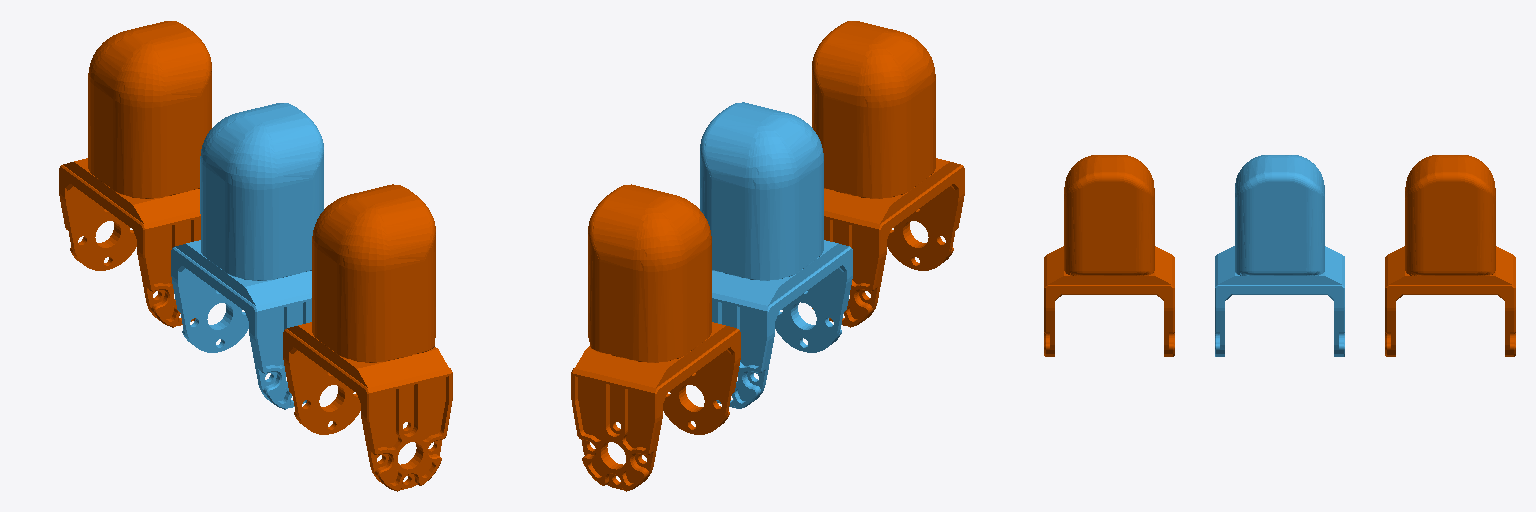
URDF robot description (leap_left):
<?xml version="1.0" encoding="utf-8"?>
<robot name="leap_left">
  <link name="base"/>
  <joint name="base_joint" type="fixed">
    <parent link="base"/>
    <child link="palm_lower_left"/>
    <origin xyz="0.015 0.055 0.17" rpy="0 -1.57079 0"/>
  </joint>

  <link name="palm_lower_left">
    <visual>
      <origin xyz="-0.0955 -0.1170 0.0207" rpy="1.57079 0 3.14159" />
      <geometry>
        <mesh filename="meshes/visual/palm_lower_left.obj"/>
      </geometry>
    </visual>
    <collision>
      <origin xyz="-0.095574224938392599027 -0.11704001150113751972 0.02077960705260517571" rpy="1.57079632679489678 1.1239611599647231752e-28 3.1415926535897908956"/>
      <geometry>
        <mesh filename="meshes/visual/palm_lower_left.obj"/>
      </geometry>
    </collision>
    <inertial>
      <origin xyz="0 0 0" rpy="0 0 0"/>
      <mass value="0.235"/>
      <inertia ixx="0.000351007" ixy="-0.000001393" ixz="-0.000000694" iyy="0.000523205" iyz="-0.000003085" izz="0.000256996"/>
    </inertial>
  </link>
  <link name="mcp_joint">
    <visual>
      <origin xyz="0.0084 0.0077 0.01465" rpy="0 0 0"/>
      <geometry>
        <mesh filename="meshes/visual/mcp_joint.obj"/>
      </geometry>
    </visual>
    <collision>      <!-- mcp_joint -->
      <origin xyz="0 0.018 0.0147" rpy="0 0 0"/>
      <geometry>
        <box size="0.02 0.006 0.034"/>
      </geometry>
    </collision>
    <collision>
      <origin xyz="-0.027 0.042 0.015" rpy="0 0 0"/>
      <geometry>
        <box size="0.028 0.04 0.02"/>
      </geometry>
    </collision>
    <collision>
      <origin xyz="-0.0262 0.02 0.0146" rpy="0 0 0"/>
      <geometry>
        <box size="0.034 0.006 0.02"/>
      </geometry>
    </collision>
    <collision>
      <origin xyz="-0.0295 0.035 0.029" rpy="0 0 0"/>
      <geometry>
        <box size="0.02 0.024 0.008"/>
      </geometry>
    </collision>
    <collision>
      <origin xyz="0 0.005 0.03" rpy="0 0 0"/>
      <geometry>
        <box size="0.014 0.02 0.004"/>
      </geometry>
    </collision>
    <collision>
      <origin xyz="0 0.005 -0.001" rpy="0 0 0"/>
      <geometry>
        <box size="0.014 0.02 0.004"/>
      </geometry>
    </collision>
    <inertial>
      <origin xyz="0 0 0" rpy="0 0 0"/>
      <mass value="0.044"/>
      <inertia ixx="0.000011499" ixy="0.000003049" ixz="0.000000121" iyy="0.000007796" iyz="0.000000112" izz="0.000014759"/>
    </inertial>
  </link>
  <link name="pip">
    <visual>
      <origin xyz="0.0096 0.0002 0.0007" rpy="-1.57079 -1.57079 0"/>
      <geometry>
        <mesh filename="meshes/visual/pip.obj"/>
      </geometry>
    </visual>
    <collision>     <!-- pip -->
      <origin xyz="0.0075 -0.0002 -0.011" rpy="0 0 0"/>
      <geometry>
        <box size="0.034 0.026 0.022"/>
      </geometry>
    </collision>
    <inertial>
      <origin xyz="0 0 0" rpy="0 0 0"/>
      <mass value="0.032"/>
      <inertia ixx="0.000004798" ixy="0.000000012" ixz="0.000000004" iyy="0.000002862" iyz="0.000000011" izz="0.000004234"/>
    </inertial>
  </link>
  <link name="dip">
    <visual>
      <origin xyz="0.0211 -0.0084 0.0097" rpy="-3.1415926 0 0"/>
      <geometry>
        <mesh filename="meshes/visual/dip.obj"/>
      </geometry>
    </visual>
    <collision>     <!-- dip -->
      <origin xyz="0 -0.02 0.015" rpy="0 0 0"/>
      <geometry>
        <box size="0.016 0.006 0.026"/>
      </geometry>
    </collision>
    <collision>
      <origin xyz="0 -0.016 0.015" rpy="0 0 0"/>
      <geometry>
        <box size="0.02 0.004 0.034"/>
      </geometry>
    </collision>
    <collision>
      <origin xyz="0 -0.0045 0.03" rpy="0 0 0"/>
      <geometry>
        <box size="0.014 0.02 0.004"/>
      </geometry>
    </collision>
    <collision>
      <origin xyz="0 -0.0045 0" rpy="0 0 0"/>
      <geometry>
        <box size="0.014 0.02 0.004"/>
      </geometry>
    </collision>
    <collision>
      <origin xyz="0.0075 -0.035 0.015" rpy="0 0 0"/>
      <geometry>
        <box size="0.034 0.022 0.026"/>
      </geometry>
    </collision>
    <inertial>
      <origin xyz="0 0 0" rpy="0 0 0"/>
      <mass value="0.037"/>
      <inertia ixx="0.000005542" ixy="-0.000000607" ixz="-0.000000017" iyy="0.000005727" iyz="-0.000000023" izz="0.000006682"/>
    </inertial>
  </link>
  <link name="fingertip">
    <visual>
      <origin xyz="0.0132 -0.0061 0.0144" rpy="3.1415926 0 0"/>
      <geometry>
        <mesh filename="meshes/visual/fingertip.obj"/>
      </geometry>
    </visual>
    <collision>     <!-- fingertip -->
      <origin xyz="0 -0.017 0.015" rpy="0 0 0"/>
      <geometry>
        <box size="0.02 0.006 0.03"/>
      </geometry>
    </collision>
    <collision>
      <origin xyz="0 -0.006 0.03" rpy="0 0 0"/>
      <geometry>
        <box size="0.014 0.022 0.004"/>
      </geometry>
    </collision>
    <collision>
      <origin xyz="0 -0.006 -0.001" rpy="0 0 0"/>
      <geometry>
        <box size="0.014 0.022 0.004"/>
      </geometry>
    </collision>
    <collision>
      <origin xyz="0 0 0" rpy="0 0 0"/>
      <geometry>
        <mesh filename="meshes/collision/white_tip.obj"/>
      </geometry>
    </collision>
    <inertial>
      <origin xyz="0 0 0" rpy="0 0 0"/>
      <mass value="0.016"/>
      <inertia ixx="0.000003368" ixy="0.000000115" ixz="0" iyy="0.000001556" iyz="0" izz="0.000002863"/>
    </inertial>
  </link>

  <joint name="0" type="revolute">
    <origin xyz="-0.0122 0.03810 0.01450" rpy="-1.57079 0 1.57079"/>
    <parent link="mcp_joint"/>
    <child link="pip"/>
    <axis xyz="0 0 -1"/>
    <limit effort="0.95" velocity="8.48" lower="-1.047" upper="1.047"/>
    <joint_properties friction="0.0"/>
  </joint>
  <joint name="1" type="revolute">
    <origin xyz="-0.0825 -0.0857 0.0078" rpy="1.57079 1.57079 0"/>
    <parent link="palm_lower_left"/>
    <child link="mcp_joint"/>
    <axis xyz="0 0 -1"/>
    <limit effort="0.95" velocity="8.48" lower="-0.314" upper="2.23"/>
    <joint_properties friction="0.0"/>
  </joint>
  <joint name="2" type="revolute">
    <origin xyz="0.015 0.0143 -0.013" rpy="1.57079 -1.57079 0"/>
    <parent link="pip"/>
    <child link="dip"/>
    <axis xyz="0 0 -1"/>
    <limit effort="0.95" velocity="8.48" lower="-0.506" upper="1.885"/>
    <joint_properties friction="0.0"/>
  </joint>
  <joint name="3" type="revolute">
    <origin xyz="0 -0.0361 0.0002" rpy="0 0 0"/>
    <parent link="dip"/>
    <child link="fingertip"/>
    <axis xyz="0 0 -1"/>
    <limit effort="0.95" velocity="8.48" lower="-0.366" upper="2.042"/>
    <joint_properties friction="0.0"/>
  </joint>
  <link name="mcp_joint_2">
    <visual>
      <origin xyz="0.0084 0.0077 0.01465" rpy="0 0 0"/>
      <geometry>
        <mesh filename="meshes/visual/mcp_joint.obj"/>
      </geometry>
    </visual>
    <collision>      <!-- mcp_joint -->
      <origin xyz="0 0.018 0.0147" rpy="0 0 0"/>
      <geometry>
        <box size="0.02 0.006 0.034"/>
      </geometry>
    </collision>
    <collision>
      <origin xyz="-0.027 0.042 0.015" rpy="0 0 0"/>
      <geometry>
        <box size="0.028 0.04 0.02"/>
      </geometry>
    </collision>
    <collision>
      <origin xyz="-0.0262 0.02 0.0146" rpy="0 0 0"/>
      <geometry>
        <box size="0.034 0.006 0.02"/>
      </geometry>
    </collision>
    <collision>
      <origin xyz="-0.0295 0.035 0.029" rpy="0 0 0"/>
      <geometry>
        <box size="0.02 0.024 0.008"/>
      </geometry>
    </collision>
    <collision>
      <origin xyz="0 0.005 0.03" rpy="0 0 0"/>
      <geometry>
        <box size="0.014 0.02 0.004"/>
      </geometry>
    </collision>
    <collision>
      <origin xyz="0 0.005 -0.001" rpy="0 0 0"/>
      <geometry>
        <box size="0.014 0.02 0.004"/>
      </geometry>
    </collision>
    <inertial>
      <origin xyz="0 0 0" rpy="0 0 0"/>
      <mass value="0.044"/>
      <inertia ixx="0.000011499" ixy="0.000003049" ixz="0.000000121" iyy="0.000007796" iyz="0.000000112" izz="0.000014759"/>
    </inertial>
  </link>
  <link name="pip_2">
    <visual>
      <origin xyz="0.0096 0.0003 0.0007" rpy="-1.57079 -1.57079 0"/>
      <geometry>
        <mesh filename="meshes/visual/pip.obj"/>
      </geometry>
    </visual>
    <collision>     <!-- pip -->
      <origin xyz="0.0075 -0.0002 -0.011" rpy="0 0 0"/>
      <geometry>
        <box size="0.034 0.026 0.022"/>
      </geometry>
    </collision>
    <inertial>
      <origin xyz="0 0 0" rpy="0 0 0"/>
      <mass value="0.032"/>
      <inertia ixx="0.000004798" ixy="0.000000012" ixz="0.000000004" iyy="0.000002862" iyz="0.000000011" izz="0.000004234"/>
    </inertial>
  </link>
  <link name="dip_2">
    <visual>
      <origin xyz="0.0211 -0.0084 0.0097" rpy="-3.14159 0 0"/>
      <geometry>
        <mesh filename="meshes/visual/dip.obj"/>
      </geometry>
    </visual>
    <collision>     <!-- dip -->
      <origin xyz="0 -0.02 0.015" rpy="0 0 0"/>
      <geometry>
        <box size="0.016 0.006 0.026"/>
      </geometry>
    </collision>
    <collision>
      <origin xyz="0 -0.016 0.015" rpy="0 0 0"/>
      <geometry>
        <box size="0.02 0.004 0.034"/>
      </geometry>
    </collision>
    <collision>
      <origin xyz="0 -0.0045 0.03" rpy="0 0 0"/>
      <geometry>
        <box size="0.014 0.02 0.004"/>
      </geometry>
    </collision>
    <collision>
      <origin xyz="0 -0.0045 0" rpy="0 0 0"/>
      <geometry>
        <box size="0.014 0.02 0.004"/>
      </geometry>
    </collision>
    <collision>
      <origin xyz="0.0075 -0.035 0.015" rpy="0 0 0"/>
      <geometry>
        <box size="0.034 0.022 0.026"/>
      </geometry>
    </collision>
    <inertial>
      <origin xyz="0 0 0" rpy="0 0 0"/>
      <mass value="0.037"/>
      <inertia ixx="0.000005542" ixy="-0.000000607" ixz="-0.000000017" iyy="0.000005727" iyz="-0.000000023" izz="0.000006682"/>
    </inertial>
  </link>
  <link name="fingertip_2">
    <visual>
      <origin xyz="0.0132 -0.0061 0.01450" rpy="3.14159 0 0"/>
      <geometry>
        <mesh filename="meshes/visual/fingertip.obj"/>
      </geometry>
    </visual>
    <collision>     <!-- fingertip -->
      <origin xyz="0 -0.017 0.015" rpy="0 0 0"/>
      <geometry>
        <box size="0.02 0.006 0.03"/>
      </geometry>
    </collision>
    <collision>
      <origin xyz="0 -0.006 0.03" rpy="0 0 0"/>
      <geometry>
        <box size="0.014 0.022 0.004"/>
      </geometry>
    </collision>
    <collision>
      <origin xyz="0 -0.006 -0.001" rpy="0 0 0"/>
      <geometry>
        <box size="0.014 0.022 0.004"/>
      </geometry>
    </collision>
    <collision>
      <origin xyz="0 0 0" rpy="0 0 0"/>
      <geometry>
        <mesh filename="meshes/collision/white_tip.obj"/>
      </geometry>
    </collision>
    <inertial>
      <origin xyz="0 0 0" rpy="0 0 0"/>
      <mass value="0.016"/>
      <inertia ixx="0.000003368" ixy="0.000000115" ixz="0" iyy="0.000001556" iyz="0" izz="0.000002863"/>
    </inertial>
  </link>
  <joint name="4" type="revolute">
    <origin xyz="-0.0122 0.0381 0.0145" rpy="-1.57079 0 1.57079"/>
    <parent link="mcp_joint_2"/>
    <child link="pip_2"/>
    <axis xyz="0 0 -1"/>
    <limit effort="0.95" velocity="8.48" lower="-1.047" upper="1.047"/>
    <joint_properties friction="0.0"/>
  </joint>
  <joint name="5" type="revolute">
    <origin xyz="-0.0825 -0.0403 0.0078" rpy="1.57079 1.57079 0"/>
    <parent link="palm_lower_left"/>
    <child link="mcp_joint_2"/>
    <axis xyz="0 0 -1"/>
    <limit effort="0.95" velocity="8.48" lower="-0.314" upper="2.23"/>
    <joint_properties friction="0.0"/>
  </joint>
  <joint name="6" type="revolute">
    <origin xyz="0.015 0.0143 -0.013" rpy="1.57079 -1.57079 0"/>
    <parent link="pip_2"/>
    <child link="dip_2"/>
    <axis xyz="0 0 -1"/>
    <limit effort="0.95" velocity="8.48" lower="-0.506" upper="1.885"/>
    <joint_properties friction="0.0"/>
  </joint>
  <joint name="7" type="revolute">
    <origin xyz="0 -0.0361 0.0002" rpy="0 0 0"/>
    <parent link="dip_2"/>
    <child link="fingertip_2"/>
    <axis xyz="0 0 -1"/>
    <limit effort="0.95" velocity="8.48" lower="-0.366" upper="2.042"/>
    <joint_properties friction="0.0"/>
  </joint>
  <link name="mcp_joint_3">
    <visual>
      <origin xyz="0.0084 0.0077 0.01465" rpy="0 0 0"/>
      <geometry>
        <mesh filename="meshes/visual/mcp_joint.obj"/>
      </geometry>
    </visual>
    <collision>      <!-- mcp_joint -->
      <origin xyz="0 0.018 0.0147" rpy="0 0 0"/>
      <geometry>
        <box size="0.02 0.006 0.034"/>
      </geometry>
    </collision>
    <collision>
      <origin xyz="-0.027 0.042 0.015" rpy="0 0 0"/>
      <geometry>
        <box size="0.028 0.04 0.02"/>
      </geometry>
    </collision>
    <collision>
      <origin xyz="-0.0262 0.02 0.0146" rpy="0 0 0"/>
      <geometry>
        <box size="0.034 0.006 0.02"/>
      </geometry>
    </collision>
    <collision>
      <origin xyz="-0.0295 0.035 0.029" rpy="0 0 0"/>
      <geometry>
        <box size="0.02 0.024 0.008"/>
      </geometry>
    </collision>
    <collision>
      <origin xyz="0 0.005 0.03" rpy="0 0 0"/>
      <geometry>
        <box size="0.014 0.02 0.004"/>
      </geometry>
    </collision>
    <collision>
      <origin xyz="0 0.005 -0.001" rpy="0 0 0"/>
      <geometry>
        <box size="0.014 0.02 0.004"/>
      </geometry>
    </collision>
    <inertial>
      <origin xyz="0 0 0" rpy="0 0 0"/>
      <mass value="0.044"/>
      <inertia ixx="0.000011499" ixy="0.000003049" ixz="0.000000121" iyy="0.000007796" iyz="0.000000112" izz="0.000014759"/>
    </inertial>
  </link>
  <link name="pip_3">
    <visual>
      <origin xyz="0.0096 0.0003 0.0007" rpy="-1.57079 -1.57079 0"/>
      <geometry>
        <mesh filename="meshes/visual/pip.obj"/>
      </geometry>
    </visual>
    <collision>     <!-- pip -->
      <origin xyz="0.0075 -0.0002 -0.011" rpy="0 0 0"/>
      <geometry>
        <box size="0.034 0.026 0.022"/>
      </geometry>
    </collision>
    <inertial>
      <origin xyz="0 0 0" rpy="0 0 0"/>
      <mass value="0.032"/>
      <inertia ixx="0.000004798" ixy="0.000000012" ixz="0.000000004" iyy="0.000002862" iyz="0.000000011" izz="0.000004234"/>
    </inertial>
  </link>
  <link name="dip_3">
    <visual>
      <origin xyz="0.0211 -0.0084 0.0097" rpy="-3.14159 0 0"/>
      <geometry>
        <mesh filename="meshes/visual/dip.obj"/>
      </geometry>
    </visual>
    <collision>     <!-- dip -->
      <origin xyz="0 -0.02 0.015" rpy="0 0 0"/>
      <geometry>
        <box size="0.016 0.006 0.026"/>
      </geometry>
    </collision>
    <collision>
      <origin xyz="0 -0.016 0.015" rpy="0 0 0"/>
      <geometry>
        <box size="0.02 0.004 0.034"/>
      </geometry>
    </collision>
    <collision>
      <origin xyz="0 -0.0045 0.03" rpy="0 0 0"/>
      <geometry>
        <box size="0.014 0.02 0.004"/>
      </geometry>
    </collision>
    <collision>
      <origin xyz="0 -0.0045 0" rpy="0 0 0"/>
      <geometry>
        <box size="0.014 0.02 0.004"/>
      </geometry>
    </collision>
    <collision>
      <origin xyz="0.0075 -0.035 0.015" rpy="0 0 0"/>
      <geometry>
        <box size="0.034 0.022 0.026"/>
      </geometry>
    </collision>
    <inertial>
      <origin xyz="0 0 0" rpy="0 0 0"/>
      <mass value="0.037"/>
      <inertia ixx="0.000005542" ixy="-0.000000607" ixz="-0.000000017" iyy="0.000005727" iyz="-0.000000023" izz="0.000006682"/>
    </inertial>
  </link>
  <link name="fingertip_3">
    <visual>
      <origin xyz="0.0132 -0.0061 0.0145" rpy="3.14159 0 0"/>
      <geometry>
        <mesh filename="meshes/visual/fingertip.obj"/>
      </geometry>
    </visual>
    <collision>     <!-- fingertip -->
      <origin xyz="0 -0.017 0.015" rpy="0 0 0"/>
      <geometry>
        <box size="0.02 0.006 0.03"/>
      </geometry>
    </collision>
    <collision>
      <origin xyz="0 -0.006 0.03" rpy="0 0 0"/>
      <geometry>
        <box size="0.014 0.022 0.004"/>
      </geometry>
    </collision>
    <collision>
      <origin xyz="0 -0.006 -0.001" rpy="0 0 0"/>
      <geometry>
        <box size="0.014 0.022 0.004"/>
      </geometry>
    </collision>
    <collision>
      <origin xyz="0 0 0" rpy="0 0 0"/>
      <geometry>
        <mesh filename="meshes/collision/white_tip.obj"/>
      </geometry>
    </collision>
    <inertial>
      <origin xyz="0 0 0" rpy="0 0 0"/>
      <mass value="0.016"/>
      <inertia ixx="0.000003368" ixy="0.000000115" ixz="0" iyy="0.000001556" iyz="0" izz="0.000002863"/>
    </inertial>
  </link>
  <joint name="8" type="revolute">
    <origin xyz="-0.0122 0.0381 0.0145" rpy="-1.57079 0 1.57079"/>
    <parent link="mcp_joint_3"/>
    <child link="pip_3"/>
    <axis xyz="0 0 -1"/>
    <limit effort="0.95" velocity="8.48" lower="-1.047" upper="1.047"/>
    <joint_properties friction="0.0"/>
  </joint>
  <joint name="9" type="revolute">
    <origin xyz="-0.0825 0.0051 0.0078" rpy="1.57079 1.57079 0"/>
    <parent link="palm_lower_left"/>
    <child link="mcp_joint_3"/>
    <axis xyz="0 0 -1"/>
    <limit effort="0.95" velocity="8.48" lower="-0.314" upper="2.23"/>
    <joint_properties friction="0.0"/>
  </joint>
  <joint name="10" type="revolute">
    <origin xyz="0.015 0.0143 -0.013" rpy="1.57079 -1.57079 0"/>
    <parent link="pip_3"/>
    <child link="dip_3"/>
    <axis xyz="0 0 -1"/>
    <limit effort="0.95" velocity="8.48" lower="-0.506" upper="1.885"/>
    <joint_properties friction="0.0"/>
  </joint>
  <joint name="11" type="revolute">
    <origin xyz="0 -0.03609 0.0002" rpy="0 0 0"/>
    <parent link="dip_3"/>
    <child link="fingertip_3"/>
    <axis xyz="0 0 -1"/>
    <limit effort="0.95" velocity="8.48" lower="-0.366" upper="2.042"/>
    <joint_properties friction="0.0"/>
  </joint>
  <link name="thumb_left_temp_base">
    <visual>
      <origin xyz="0.0439 0.0068 0.02146" rpy="1.57079 0 0"/>
      <geometry>
        <mesh filename="meshes/visual/pip_left.obj"/>
      </geometry>
    </visual>
    <collision>     <!-- pip -->
      <origin xyz="-0.0069 0 -0.0109"/>
      <geometry>
        <box size="0.034 0.026 0.022"/>
      </geometry>
    </collision>
    <inertial>
      <origin xyz="0 0 0" rpy="0 0 0"/>
      <mass value="0.032"/>
      <inertia ixx="0.000004798" ixy="0.000000012" ixz="0.000000004" iyy="0.000002862" iyz="0.000000011" izz="0.000004234"/>
    </inertial>
  </link>
  <link name="thumb_pip">
    <visual>
      <origin xyz="0.01196 0 -0.0158" rpy="1.57079 0 0"/>
      <geometry>
        <mesh filename="meshes/visual/thumb_pip.obj"/>
      </geometry>
    </visual>
    <collision>     <!-- thumb_pip -->
      <origin xyz="0 0 -0.0015" rpy="0 0 0"/>
      <geometry>
        <box size="0.018 0.033 0.004"/>
      </geometry>
    </collision>
    <collision>
      <origin xyz="0 -0.015 -0.013" rpy="0 0 0"/>
      <geometry>
        <box size="0.014 0.004 0.02"/>
      </geometry>
    </collision>
    <collision>
      <origin xyz="0 0.015 -0.013" rpy="0 0 0"/>
      <geometry>
        <box size="0.014 0.004 0.02"/>
      </geometry>
    </collision>
    <inertial>
      <origin xyz="0 0 0" rpy="0 0 0"/>
      <mass value="0.003"/>
      <inertia ixx="0.000000593" ixy="0" ixz="0" iyy="0.000000549" iyz="0" izz="0.000000224"/>
    </inertial>
  </link>
  <link name="thumb_dip">
    <visual>
      <origin xyz="0.0439 0.0579 -0.0086" rpy="0 0 0"/>
      <geometry>
        <mesh filename="meshes/visual/thumb_dip.obj"/>
      </geometry>
    </visual>
    <collision>     <!-- thumb_dip -->
      <origin xyz="0 0.0105 -0.014" rpy="0 0 0"/>
      <geometry>
        <box size="0.02 0.04 0.024"/>
      </geometry>
    </collision>
    <collision>
      <origin xyz="0 0.031 -0.015" rpy="0 0 0"/>
      <geometry>
        <box size="0.02 0.004 0.032"/>
      </geometry>
    </collision>
    <collision>
      <origin xyz="0 0.042 0.001" rpy="0 0 0"/>
      <geometry>
        <box size="0.014 0.02 0.004"/>
      </geometry>
    </collision>
    <collision>
      <origin xyz="0 0.042 -0.029" rpy="0 0 0"/>
      <geometry>
        <box size="0.014 0.02 0.004"/>
      </geometry>
    </collision>
    <collision>
      <origin xyz="-0.0135 0.0175 -0.011656" rpy="0 0 0"/>
      <geometry>
        <box size="0.01 0.024 0.018"/>
      </geometry>
    </collision>
    <inertial>
      <origin xyz="0 0 0" rpy="0 0 0"/>
      <mass value="0.038"/>
      <inertia ixx="0.000008474" ixy="0.000000241" ixz="0.000000026" iyy="0.000003841" iyz="0.000000025" izz="0.000007679"/>
    </inertial>
  </link>
  <link name="thumb_fingertip">
    <visual>
      <origin xyz="0.0625 0.0784 0.0489" rpy="0 0 0"/>
      <geometry>
        <mesh filename="meshes/visual/thumb_fingertip.obj"/>
      </geometry>
    </visual>
    <collision>     <!-- thumb_fingertip -->
      <origin xyz="0 -0.0085 -0.015" rpy="0 0 0"/>
      <geometry>
        <box size="0.02 0.036 0.024"/>
      </geometry>
    </collision>
    <collision>
      <origin xyz="0 -0.029 -0.014" rpy="0 0 0"/>
      <geometry>
        <box size="0.02 0.004 0.03"/>
      </geometry>
    </collision>
    <collision>
      <origin xyz="0.015 -0.0175 -0.0115" rpy="0 0 0"/>
      <geometry>
        <box size="0.008 0.024 0.018"/>
      </geometry>
    </collision>
    <collision>
      <origin xyz="0 0 0" rpy="0 0 0"/>
      <geometry>
        <mesh filename="meshes/collision/white_tip_thumb.obj"/>
      </geometry>
    </collision>
    <inertial>
      <origin xyz="0 0 0" rpy="0 0 0"/>
      <mass value="0.049"/>
      <inertia ixx="0.000020372" ixy="-0.000000489" ixz="-0.00000003" iyy="0.000004336" iyz="-0.000000097" izz="0.000019845"/>
    </inertial>
  </link>
  <joint name="12" type="revolute">
    <origin xyz="-0.1448 -0.0900 0.0049" rpy="0 1.57079 0"/>
    <parent link="palm_lower_left"/>
    <child link="thumb_left_temp_base"/>
    <axis xyz="0 0 -1"/>
    <limit effort="0.95" velocity="8.48" lower="-2.094" upper="0.349"/>
    <joint_properties friction="0.0"/>
  </joint>
  <joint name="13" type="revolute">
    <origin xyz="0 -0.0143 -0.013" rpy="-1.57079 -1.57079 0"/>
    <parent link="thumb_left_temp_base"/>
    <child link="thumb_pip"/>
    <axis xyz="0 0 -1"/>
    <limit effort="0.95" velocity="8.48" lower="-2.443" upper="0.47"/>
    <joint_properties friction="0.0"/>
  </joint>
  <joint name="14" type="revolute">
    <origin xyz="0 0.0145 -0.017" rpy="-1.57079 0 0"/>
    <parent link="thumb_pip"/>
    <child link="thumb_dip"/>
    <axis xyz="0 0 -1"/>
    <limit effort="0.95" velocity="8.48" lower="-1.20" upper="1.90"/>
    <joint_properties friction="0.0"/>
  </joint>
  <joint name="15" type="revolute">
    <origin xyz="0 0.0466 0.0002" rpy="0 0 3.14159"/>
    <parent link="thumb_dip"/>
    <child link="thumb_fingertip"/>
    <axis xyz="0 0 -1"/>
    <limit effort="0.95" velocity="8.48" lower="-1.34" upper="1.88"/>
    <joint_properties friction="0.0"/>
  </joint>

  <!--  virtual auxiliary link-->
  <link name="thumb_tip_head"/>
  <link name="index_tip_head"/>
  <link name="middle_tip_head"/>
  <link name="ring_tip_head"/>
  <joint name="thumb_tip" type="fixed">
    <parent link="thumb_fingertip"/>
    <child link="thumb_tip_head"/>
    <origin rpy="0 0 0" xyz="0 -0.06 -0.015"/>
  </joint>
  <joint name="index_tip" type="fixed">
    <parent link="fingertip"/>
    <child link="index_tip_head"/>
    <origin rpy="0 0 0" xyz="0 -0.048 0.015"/>
  </joint>
  <joint name="middle_tip" type="fixed">
    <parent link="fingertip_2"/>
    <child link="middle_tip_head"/>
    <origin rpy="0 0 0" xyz="0 -0.048 0.015"/>
  </joint>
  <joint name="ring_tip" type="fixed">
    <parent link="fingertip_3"/>
    <child link="ring_tip_head"/>
    <origin rpy="0 0 0" xyz="0 -0.048 0.015"/>
  </joint>
</robot>

--- Facts derived from the render (not from the file) ---
3 views of the same robot in one strip: view 1: azimuth 30°, elevation 25°; view 2: azimuth 150°, elevation 25°; view 3: azimuth 270°, elevation 25° (orthographic).
Model leap_left with 22 links and 21 joints (16 revolute, 5 fixed), rooted at base, posed all joints at 0.
Visible links, largest first — view 1: fingertip, fingertip_3, fingertip_2; view 2: fingertip_3, fingertip_2, fingertip; view 3: fingertip_3, fingertip, fingertip_2.
Boxes of the visible links, box(x1,y1,x2,y2) form: fingertip: box(283, 184, 452, 491); fingertip_3: box(59, 21, 211, 327); fingertip_2: box(171, 103, 323, 409); fingertip_3: box(571, 184, 740, 491); fingertip_2: box(700, 102, 852, 408); fingertip: box(812, 21, 964, 327); fingertip_3: box(1385, 155, 1515, 356); fingertip: box(1044, 155, 1174, 356); fingertip_2: box(1215, 155, 1344, 356).
Size in the robot's own frame: 0.0211 by 0.1253 by 0.0579 metres.
3 mesh visuals loaded from 9 distinct referenced files (1 OBJ); not drawn: 14 (reference not matched to a file when rendering).